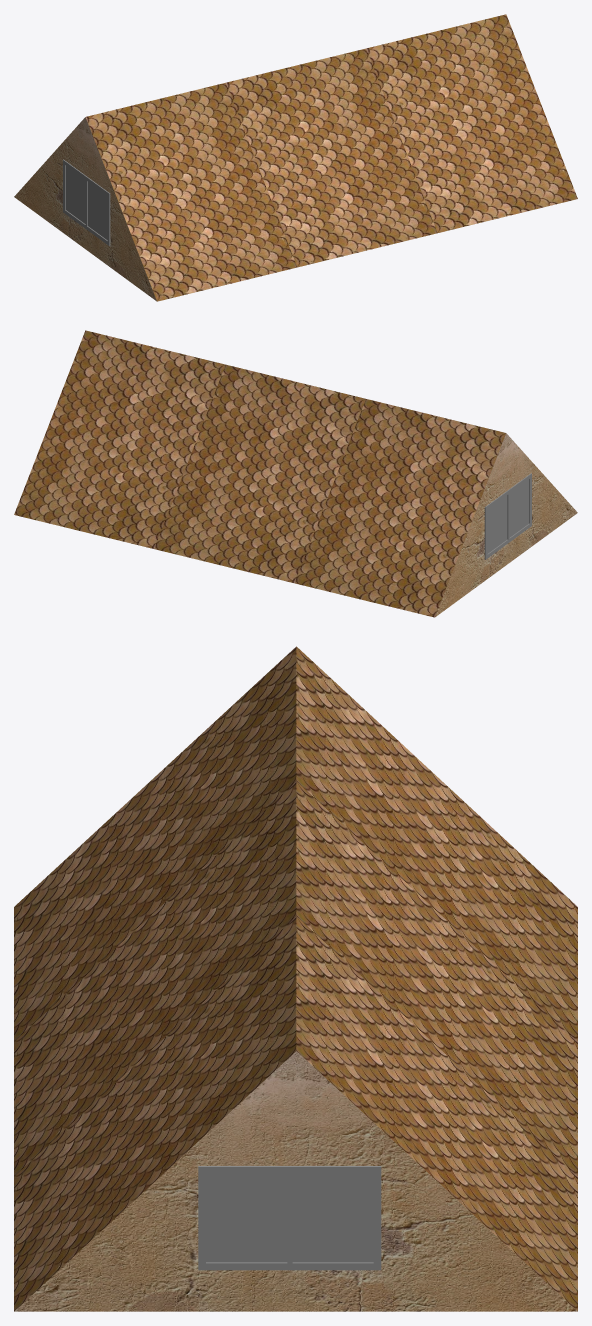
File: roof1.fbx
The picture shows the model from 3 angles, top to bottom: view 1: azimuth 30°, elevation 25°; view 2: azimuth 150°, elevation 25°; view 3: azimuth 270°, elevation 25°; orthographic projection. The views are drawn at different scales.
Parts seen in each view (by area): view 1: Line004, CasementWindow012; view 2: Line004, CasementWindow012; view 3: Line004, CasementWindow012.
Part boxes in pixels (box(x1,y1,x2,y2)): Line004: box(14, 14, 577, 301); CasementWindow012: box(63, 159, 110, 246); Line004: box(14, 330, 577, 617); CasementWindow012: box(484, 473, 531, 559); Line004: box(14, 646, 577, 1311); CasementWindow012: box(198, 1166, 381, 1270).
Bounding box in the file's own units: 733 × 219 × 430.
Materials: 9 (2 with a texture image).
